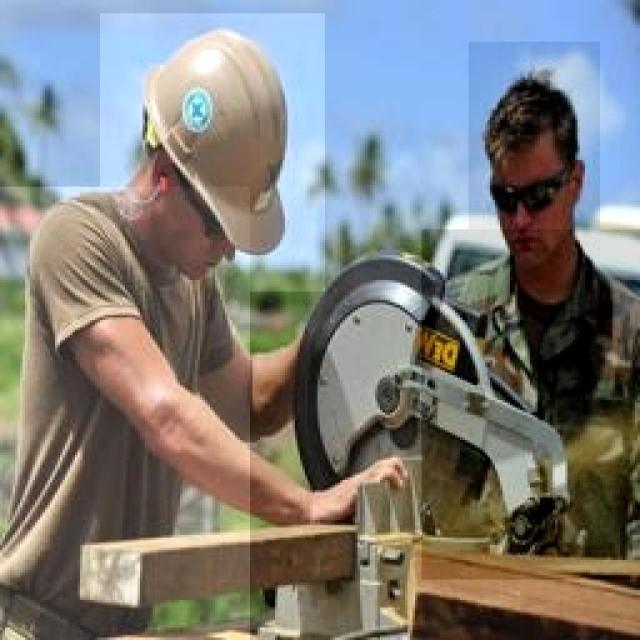Helmet: (0, 186, 250, 640), (421, 230, 640, 580), (100, 13, 325, 292), (468, 42, 600, 268)
